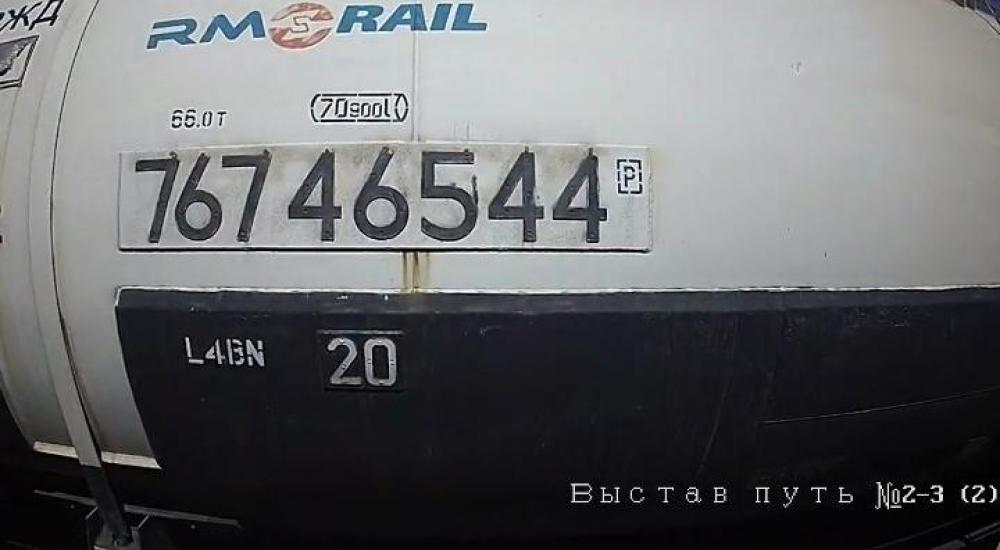Wagon-number: (125, 143, 612, 248)
